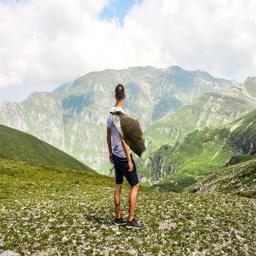Cuckoo: (109, 110, 163, 176)
